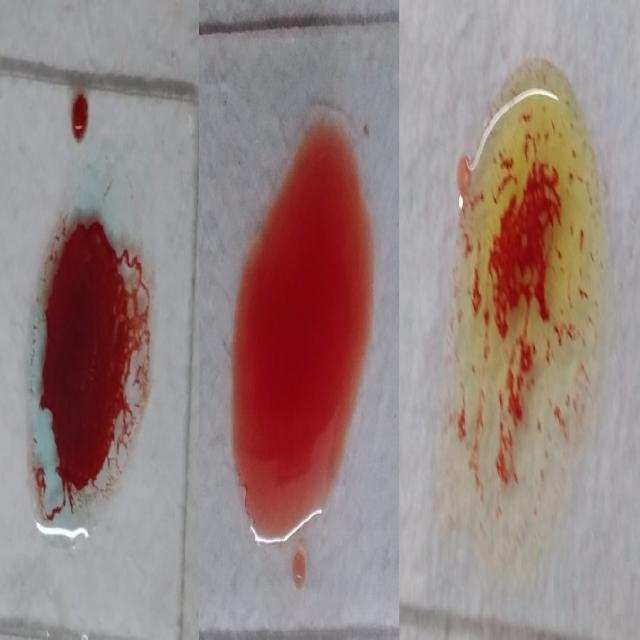A: (31, 141, 152, 548)
B: (452, 55, 600, 543)
